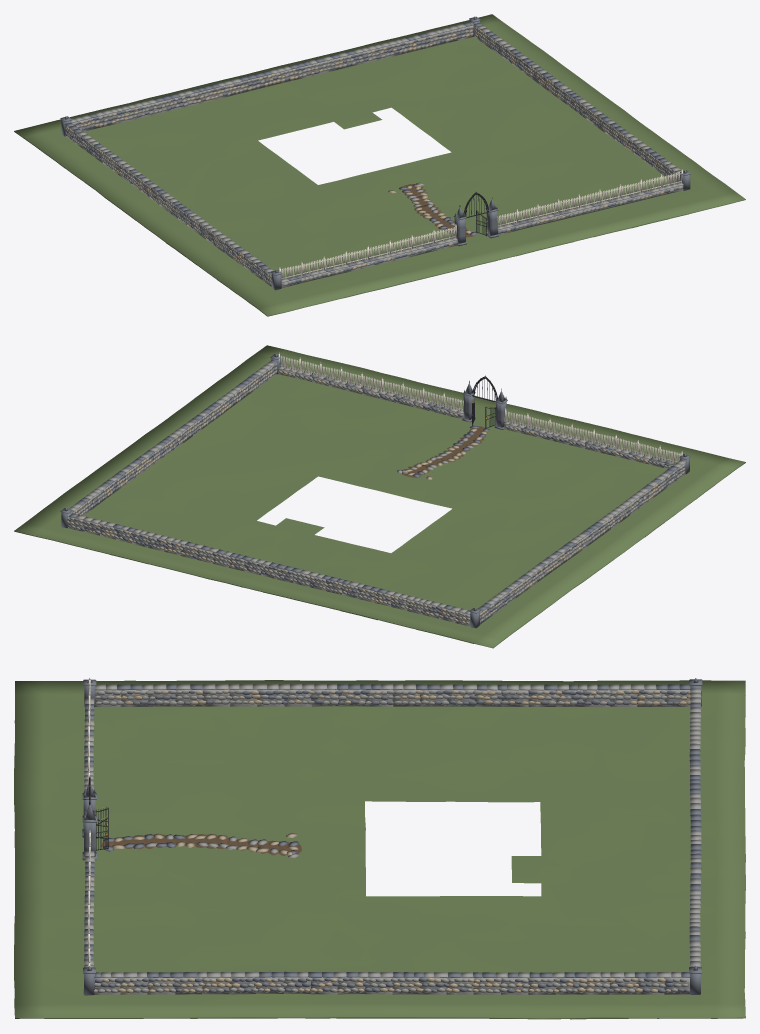
The model's file is Museum_Ext_Ground.fbx.
3 views of the same model, one above another, from view 1: azimuth 30°, elevation 25°; view 2: azimuth 150°, elevation 25°; view 3: azimuth 270°, elevation 25° (orthographic). The views are drawn at different scales.
Parts seen in each view (by area): view 1: Env_Terrain, Env_StoneWall, Env_PicketFence, Env_Path, Env_GothicGate; view 2: Env_Terrain, Env_StoneWall, Env_PicketFence, Env_Path, Env_GothicGate; view 3: Env_Terrain, Env_StoneWall, Env_Path, Env_PicketFence, Env_GothicGate.
Boxes of the visible parts, x1,y1,x2,y2 form: Env_Terrain: (14, 14, 745, 316); Env_StoneWall: (60, 16, 690, 290); Env_PicketFence: (279, 169, 683, 287); Env_Path: (388, 182, 477, 237); Env_GothicGate: (453, 191, 498, 245); Env_Terrain: (14, 345, 745, 648); Env_StoneWall: (60, 354, 690, 628); Env_PicketFence: (278, 352, 682, 468); Env_Path: (397, 425, 489, 479); Env_GothicGate: (462, 375, 507, 429); Env_Terrain: (14, 680, 745, 1019); Env_StoneWall: (83, 678, 702, 995); Env_Path: (101, 833, 301, 857); Env_PicketFence: (84, 677, 94, 967); Env_GothicGate: (82, 775, 96, 860).
Bounding box in the file's own units: 48.1 × 4.8 × 44.08.
